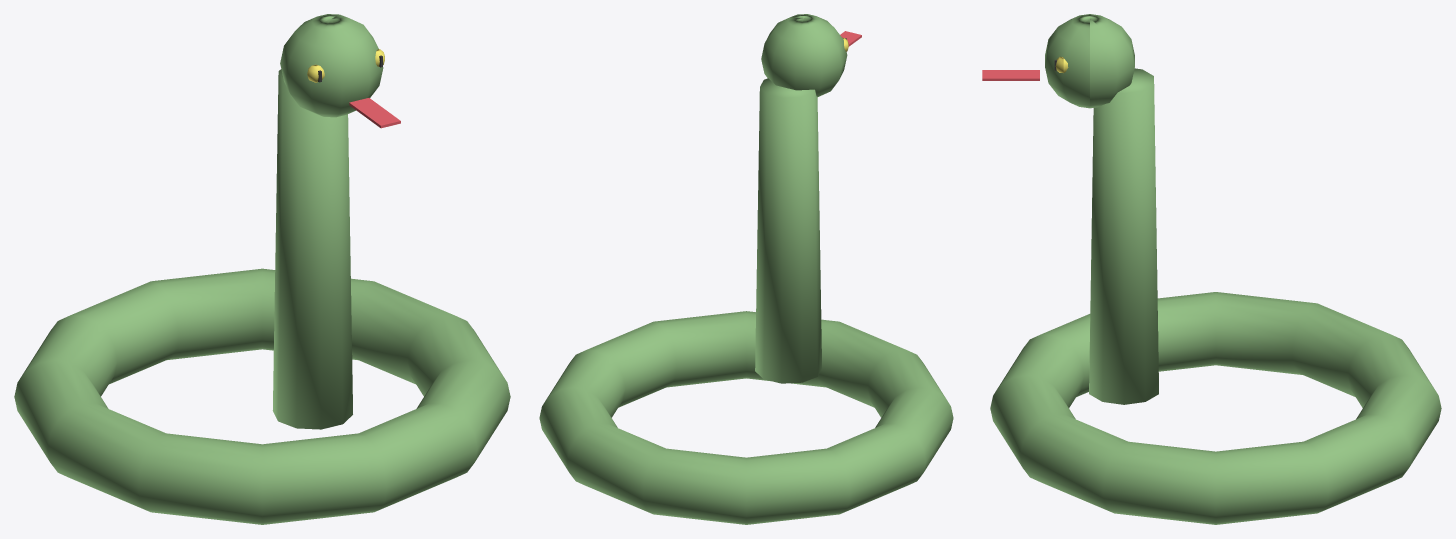
3 views of the same model, side by side, from view 1: azimuth 30°, elevation 25°; view 2: azimuth 150°, elevation 25°; view 3: azimuth 270°, elevation 25° (orthographic). The views are drawn at different scales.
Parts seen in each view (by area): view 1: Generated3DMesh; view 2: Generated3DMesh; view 3: Generated3DMesh.
Boxes of the visible parts, x1=… form: Generated3DMesh: x1=14, y1=14, x2=510, y2=524; Generated3DMesh: x1=539, y1=14, x2=953, y2=524; Generated3DMesh: x1=982, y1=14, x2=1441, y2=524.
Size of the model in its own units: 1.72 by 1.78 by 1.75.
